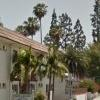Palm tree: (20, 1, 76, 47)
